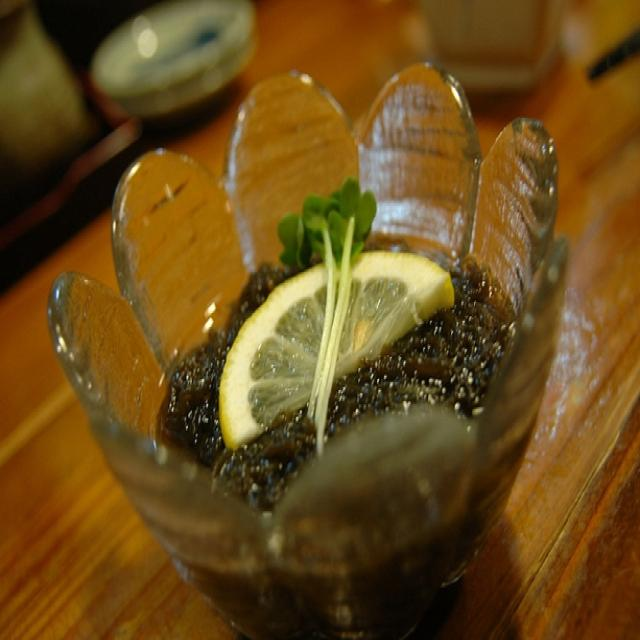蔬菜料理: (20, 20, 617, 604)
